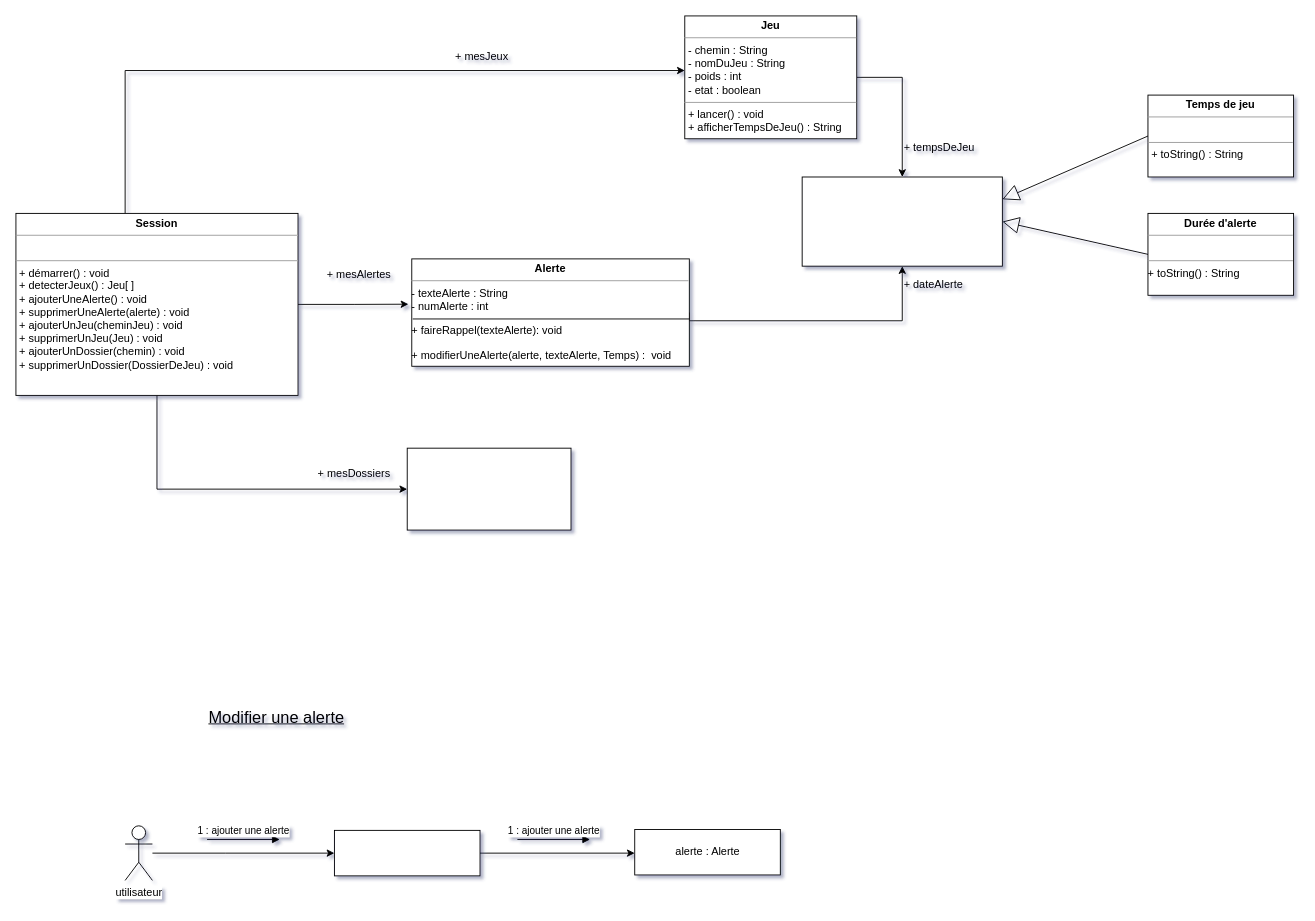
Some shapes in this 1315 by 921 pixel diagram are drawn without their labels. Here are the shapes that lost their labels. From the top down, the box of each, then its label:
(801, 176, 1002, 266): Temps - tempsMin: int - tempsH: int + modifierTemps(heure, minute): void
(406, 447, 571, 530): DossierDeJeu - cheminDossier : String + detecterJeuxDossier() : Jeu[ ]
(334, 829, 480, 876): sessionEnCours : Session
